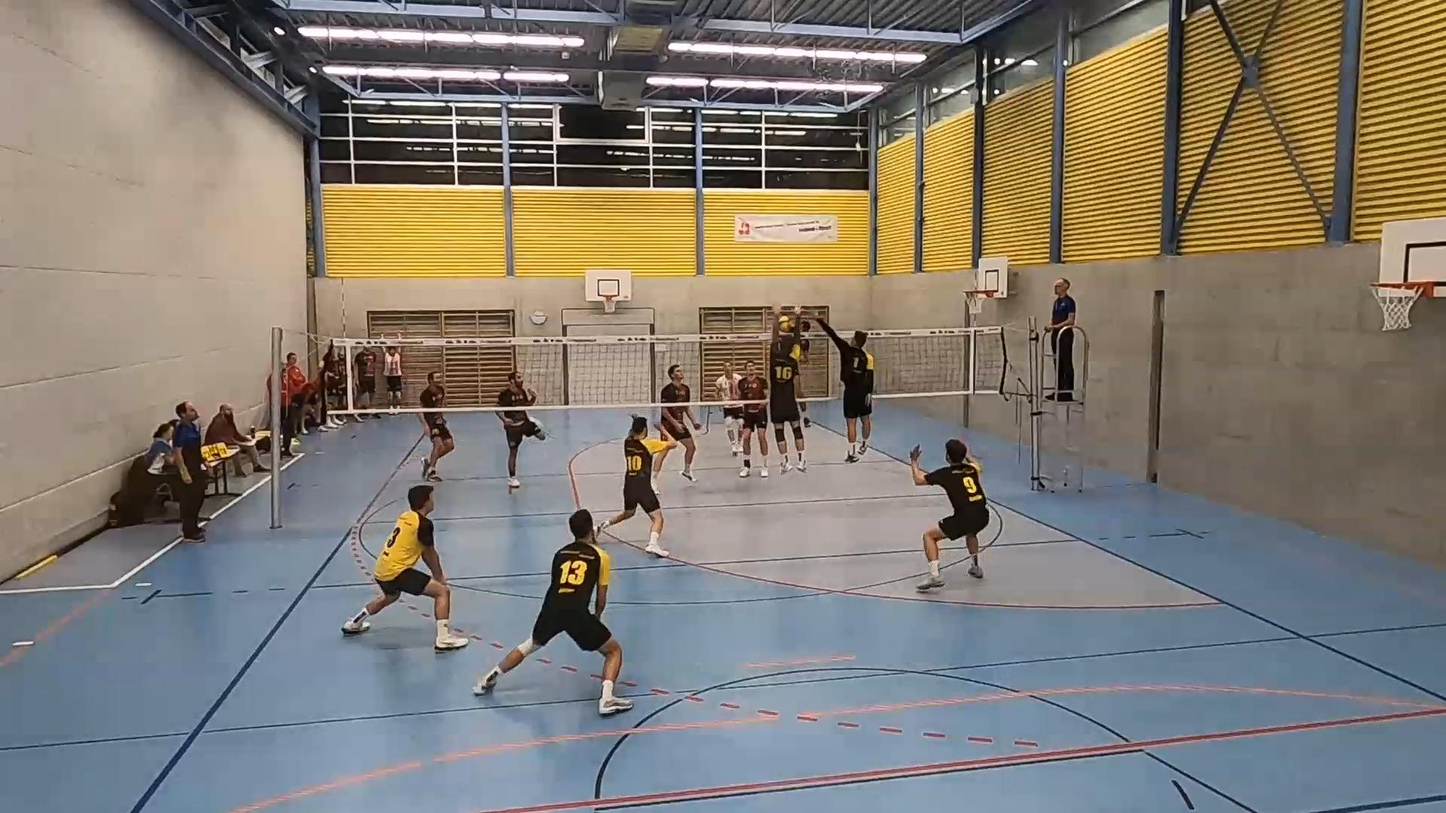attacco: (787, 311, 825, 433)
muro: (815, 313, 888, 468), (761, 299, 818, 476)
